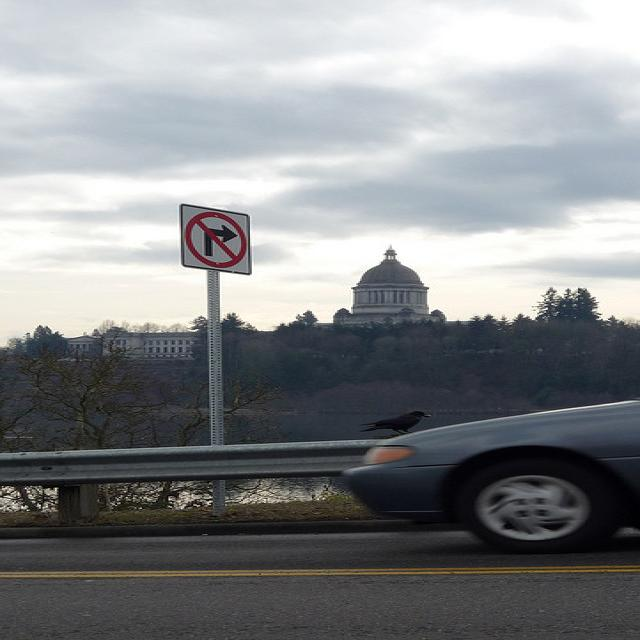Vehicle: (343, 398, 640, 551)
